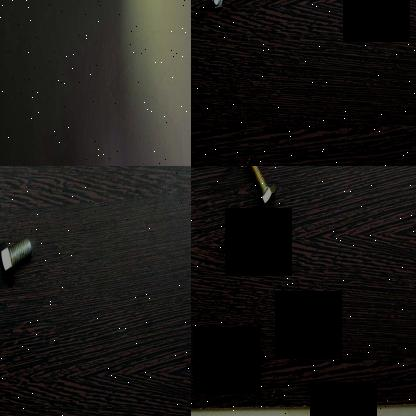Bolts: (0, 231, 37, 281), (247, 166, 277, 209), (206, 0, 226, 13)
